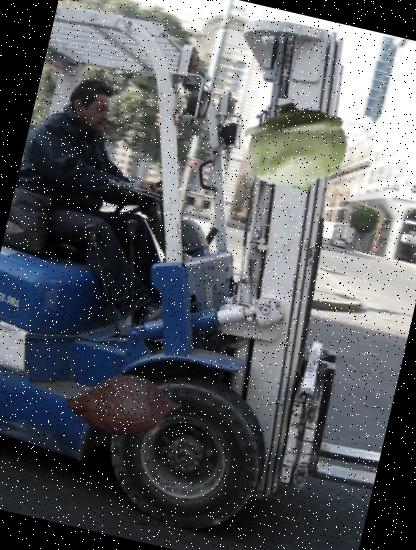Kohlrabi: (233, 84, 360, 210)
Salak: (56, 338, 193, 475)
